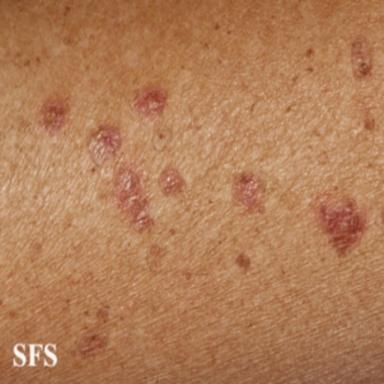Porokeratosis: (312, 192, 366, 257), (114, 168, 153, 231), (232, 172, 266, 214), (88, 124, 121, 166), (39, 96, 71, 135), (133, 86, 167, 117), (351, 35, 372, 80), (77, 332, 108, 358), (159, 167, 185, 196), (362, 98, 378, 132), (152, 126, 173, 151), (146, 244, 161, 272), (97, 308, 109, 323)
